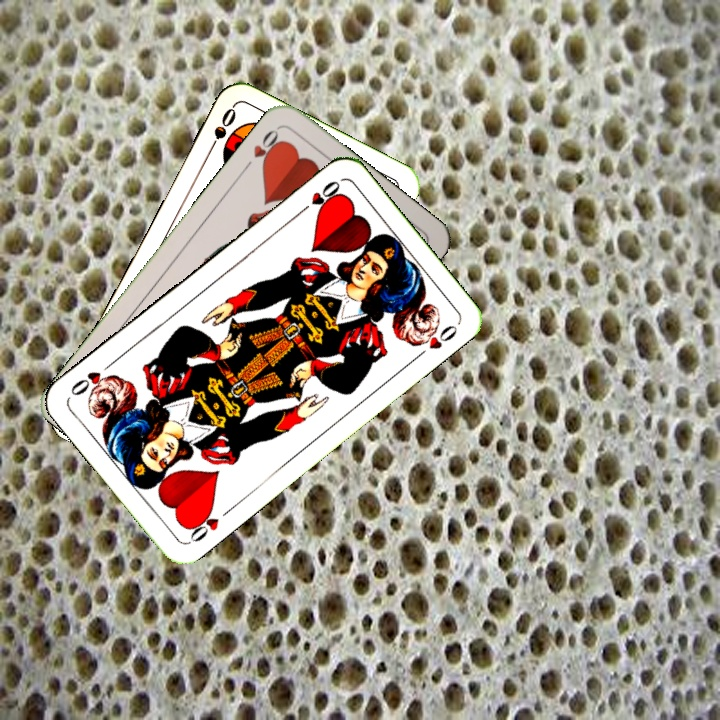HO: (239, 124, 286, 173), (293, 176, 343, 218), (182, 503, 222, 546)
SO: (203, 103, 239, 158)
